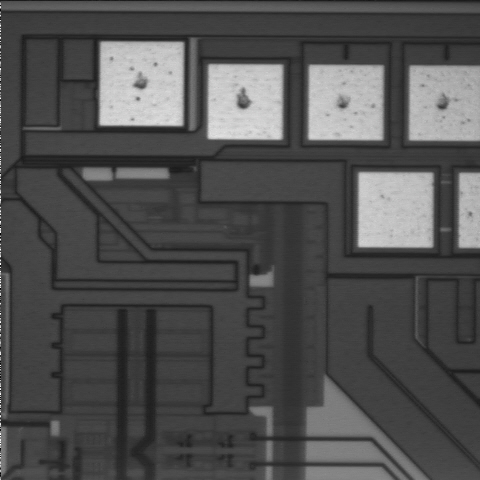pad: (100, 42, 183, 126), (208, 65, 282, 139), (309, 66, 382, 140), (359, 173, 432, 247)
